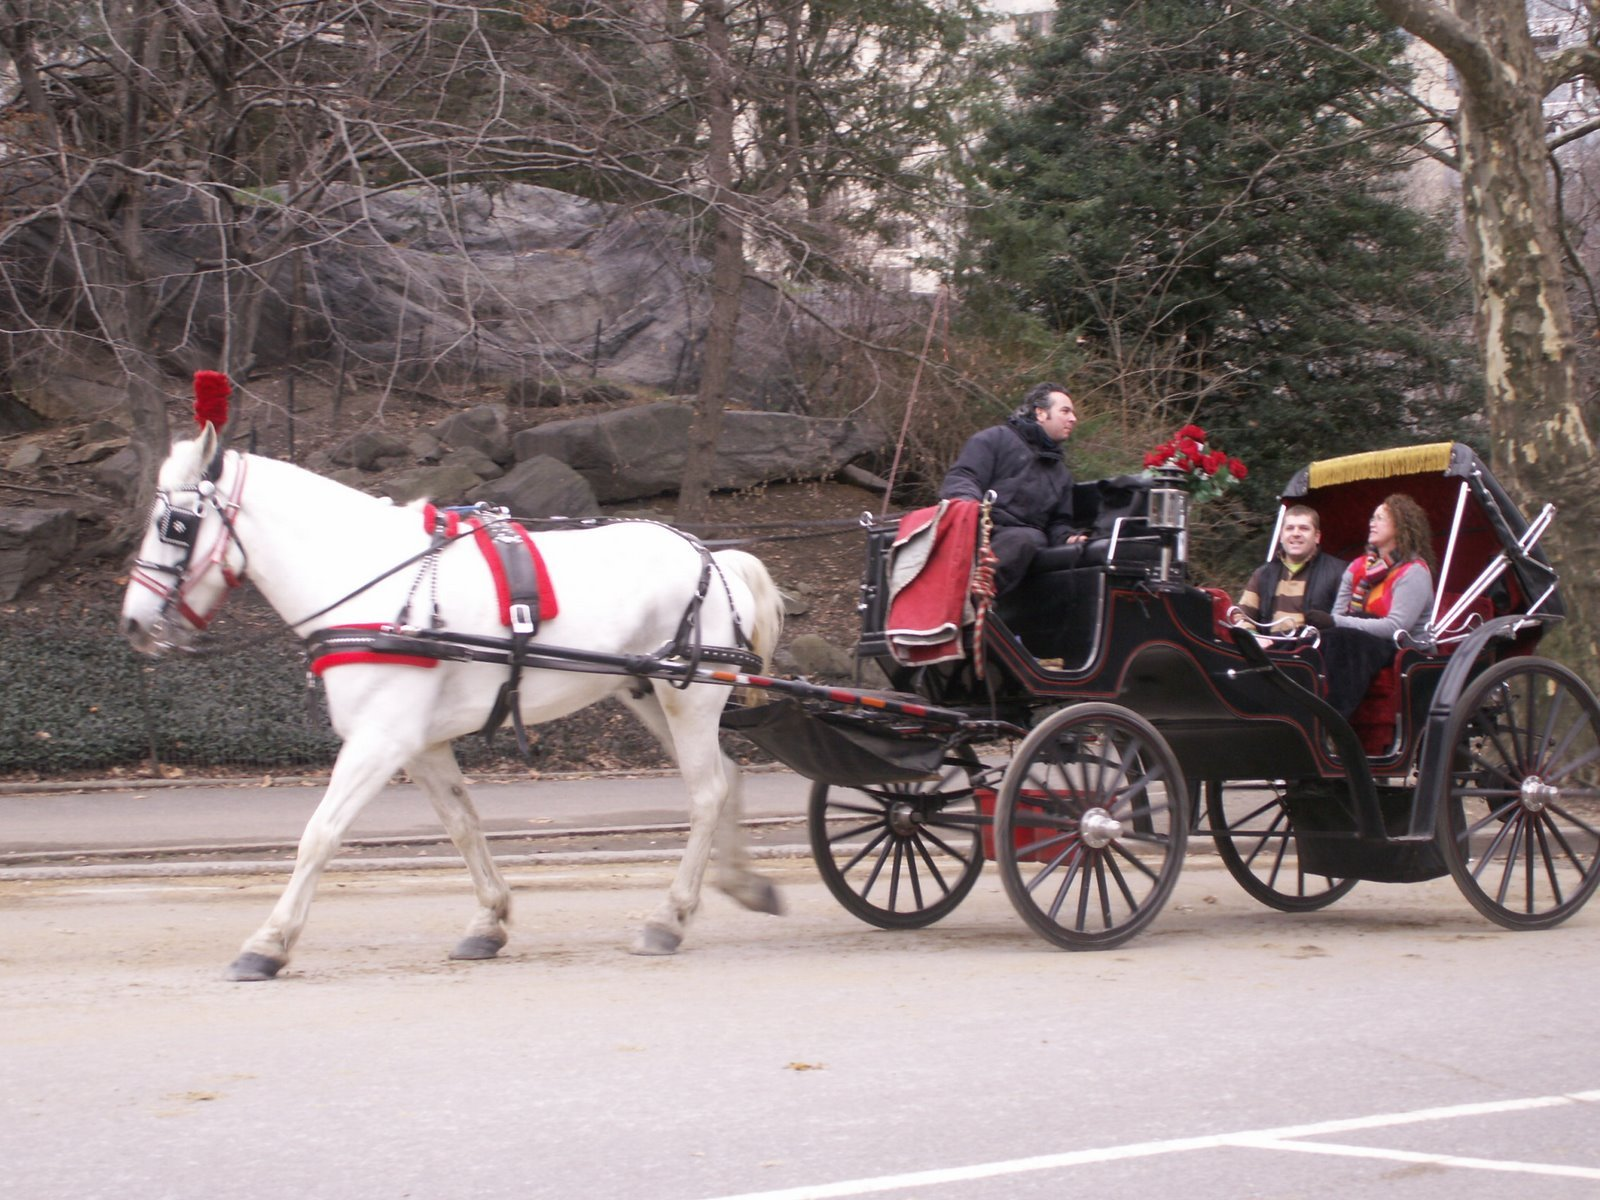horse: (118, 421, 801, 979)
